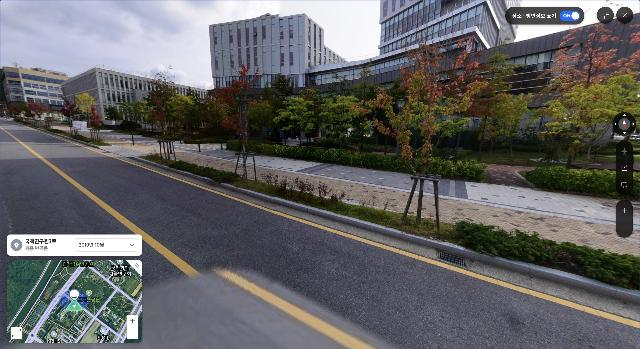ginkgo: (73, 92, 98, 139)
other: (358, 23, 498, 232), (519, 28, 640, 171), (206, 58, 273, 185), (473, 68, 544, 163), (135, 65, 195, 163), (311, 84, 375, 153), (268, 85, 328, 148), (96, 97, 142, 133), (57, 96, 84, 136)
